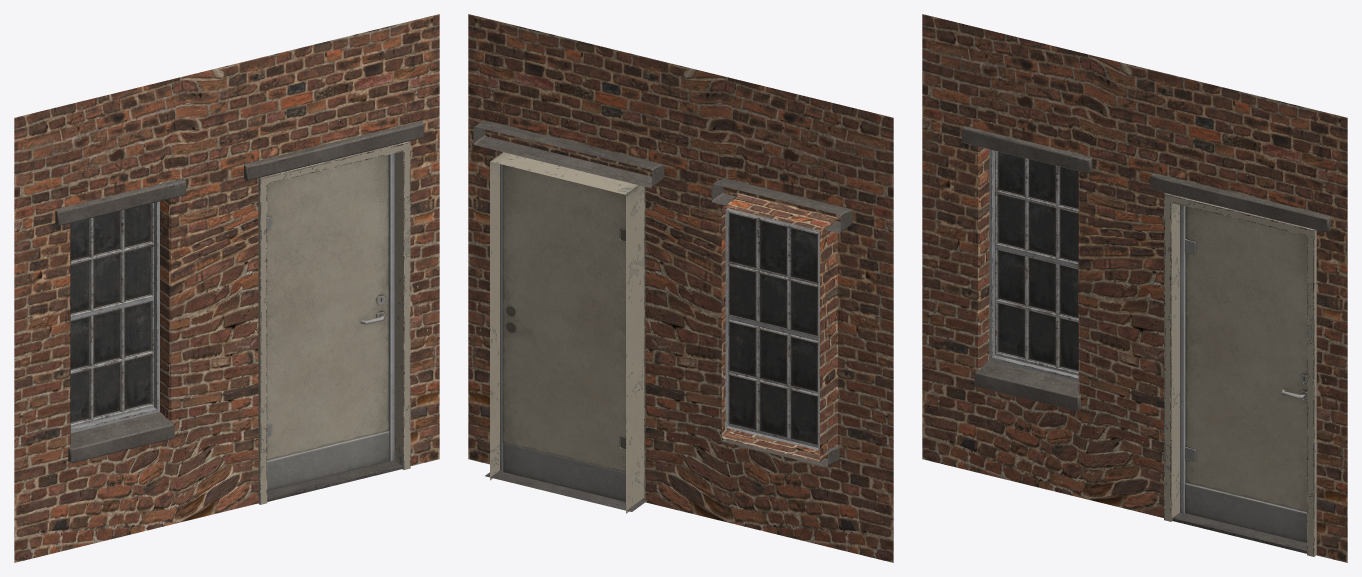
The model's file is bay_shop.gltf.
3 renders of one model, left to right at view 1: azimuth 30°, elevation 25°; view 2: azimuth 150°, elevation 25°; view 3: azimuth 330°, elevation 25°, orthographic.
Parts seen in each view (by area): view 1: bay_shop; view 2: bay_shop; view 3: bay_shop.
Boxes of the visible parts, left/top/right/bottom form: bay_shop: left=14, top=14, right=439, bottom=562; bay_shop: left=468, top=14, right=893, bottom=562; bay_shop: left=922, top=14, right=1347, bottom=562.
Bounding box in the file's own units: 3 × 3 × 0.235.
Materials: 4 (4 with a texture image).
